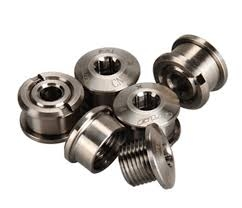metal: (147, 27, 232, 118), (8, 64, 89, 153), (106, 70, 187, 148), (115, 115, 189, 200), (58, 103, 131, 189), (69, 40, 142, 114)
